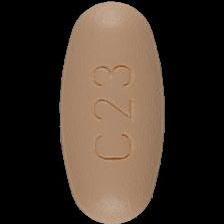65597-106: (0, 0, 224, 224)
